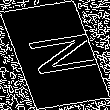N_E: (11, 29, 99, 81)
